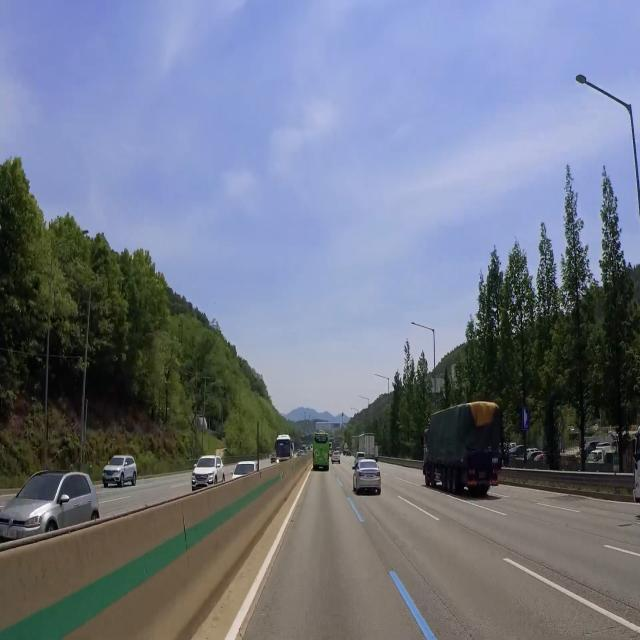car: (476, 467, 490, 485), (364, 473, 377, 485)
